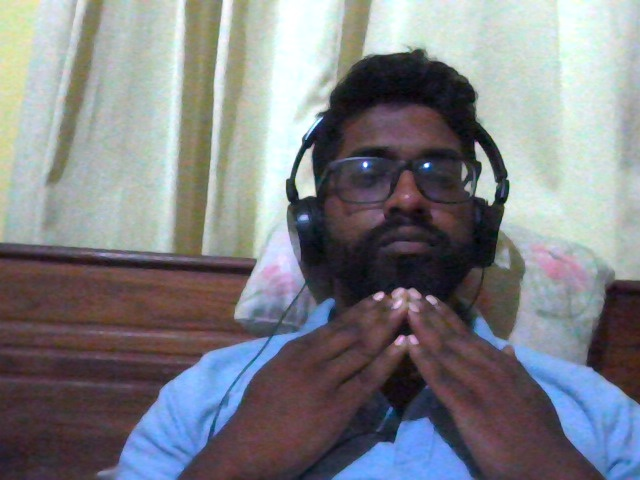Thank you: (121, 275, 640, 480)
